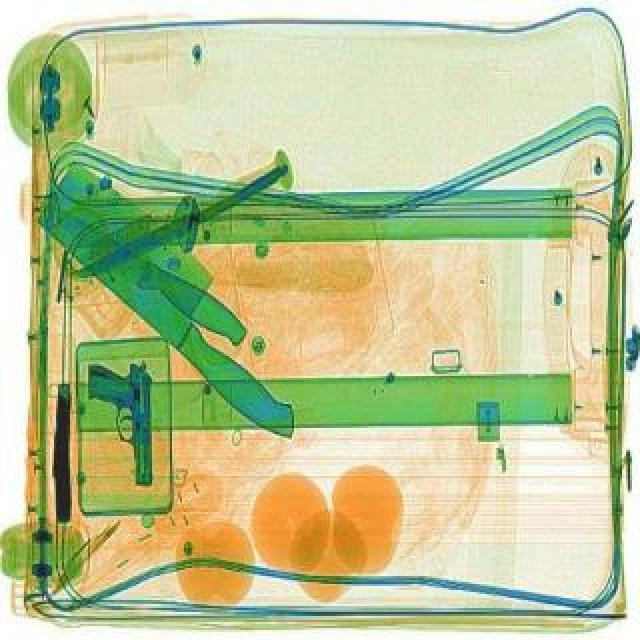gun: (84, 356, 160, 486), (48, 382, 76, 522)
knife: (20, 152, 340, 448), (30, 184, 254, 348), (70, 158, 294, 286)
